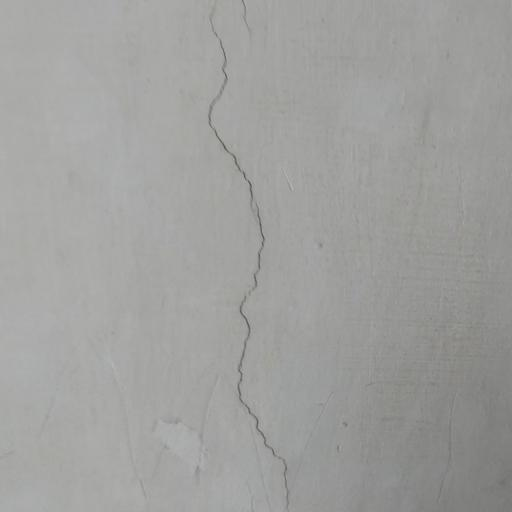minor_crack: (199, 7, 307, 512)
